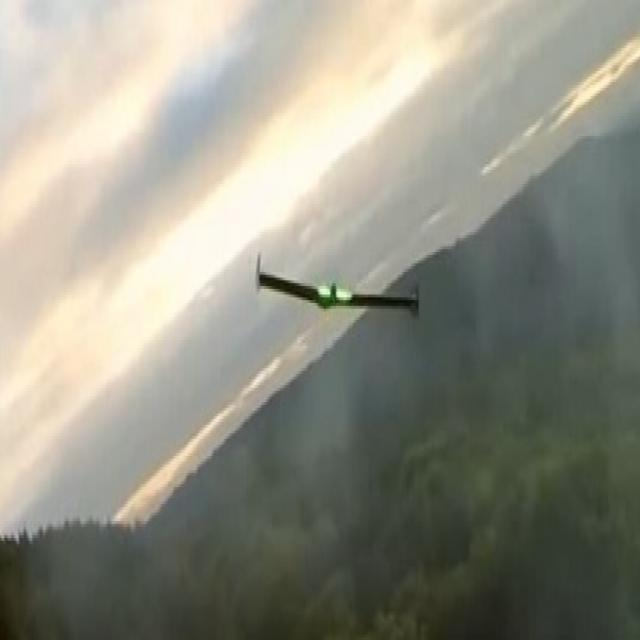Airplane: (246, 239, 428, 328)
